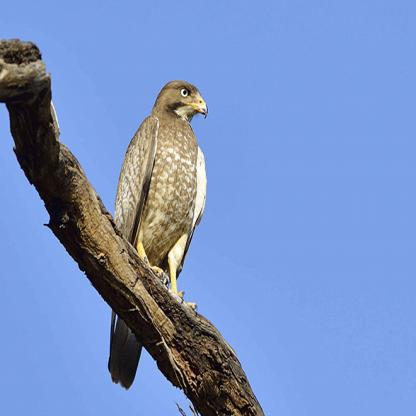Burung: (106, 79, 208, 394)
